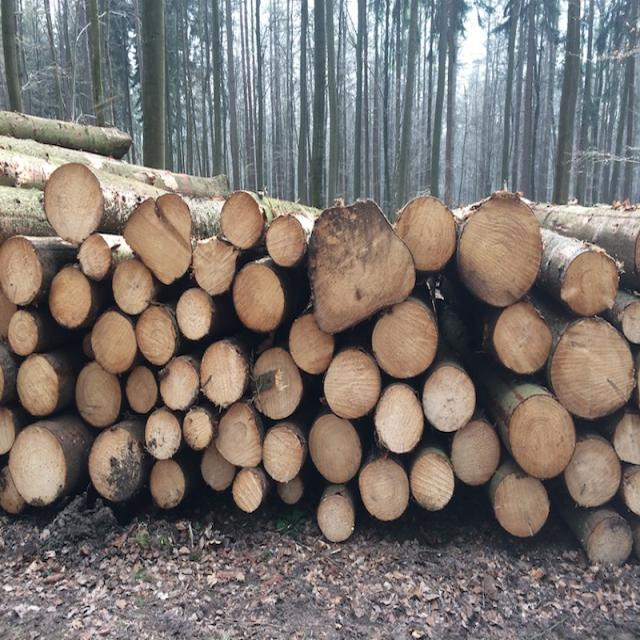wood-log: (312, 202, 416, 334), (456, 196, 540, 308), (548, 317, 633, 417), (125, 195, 196, 283), (506, 394, 574, 478), (372, 300, 438, 378), (10, 424, 68, 506), (395, 198, 459, 271), (46, 165, 106, 242), (87, 425, 143, 505), (493, 304, 553, 376), (322, 347, 382, 418), (563, 436, 622, 505), (491, 469, 548, 537), (420, 362, 474, 431), (561, 253, 620, 316), (311, 415, 364, 485), (231, 264, 284, 333), (252, 349, 302, 422), (371, 383, 422, 453), (200, 340, 250, 407), (357, 455, 408, 520), (449, 418, 500, 482), (216, 402, 265, 468), (75, 362, 121, 430), (92, 312, 139, 374), (0, 234, 42, 303), (289, 315, 336, 375), (408, 450, 454, 511), (48, 266, 92, 328), (16, 354, 59, 417), (218, 191, 265, 248), (193, 241, 241, 296), (261, 420, 304, 481), (134, 307, 176, 368), (587, 511, 633, 565), (114, 258, 157, 313), (264, 217, 309, 267), (159, 357, 200, 410), (316, 492, 354, 542), (144, 408, 182, 458), (175, 290, 212, 341), (152, 458, 186, 507), (201, 444, 237, 489), (80, 234, 114, 279), (234, 469, 268, 514), (126, 366, 158, 413), (184, 407, 216, 451), (9, 310, 40, 355), (614, 412, 640, 464), (620, 300, 640, 344), (623, 466, 640, 516), (0, 405, 15, 455), (278, 476, 303, 505)
